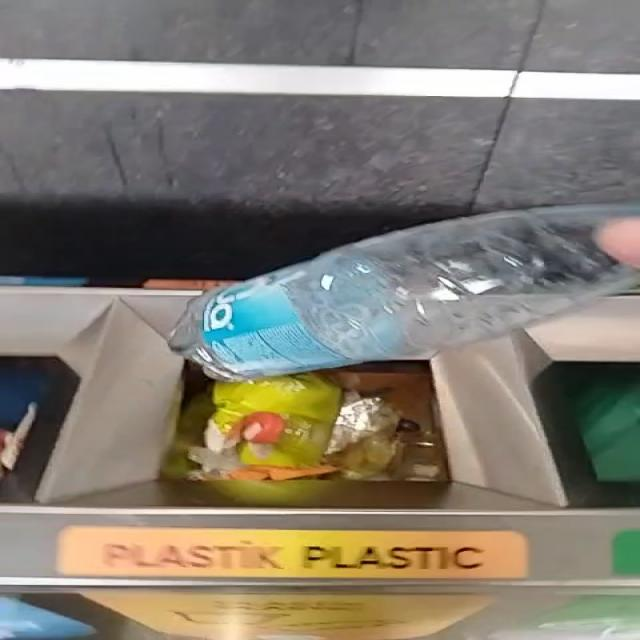plastic: (169, 204, 639, 381)
